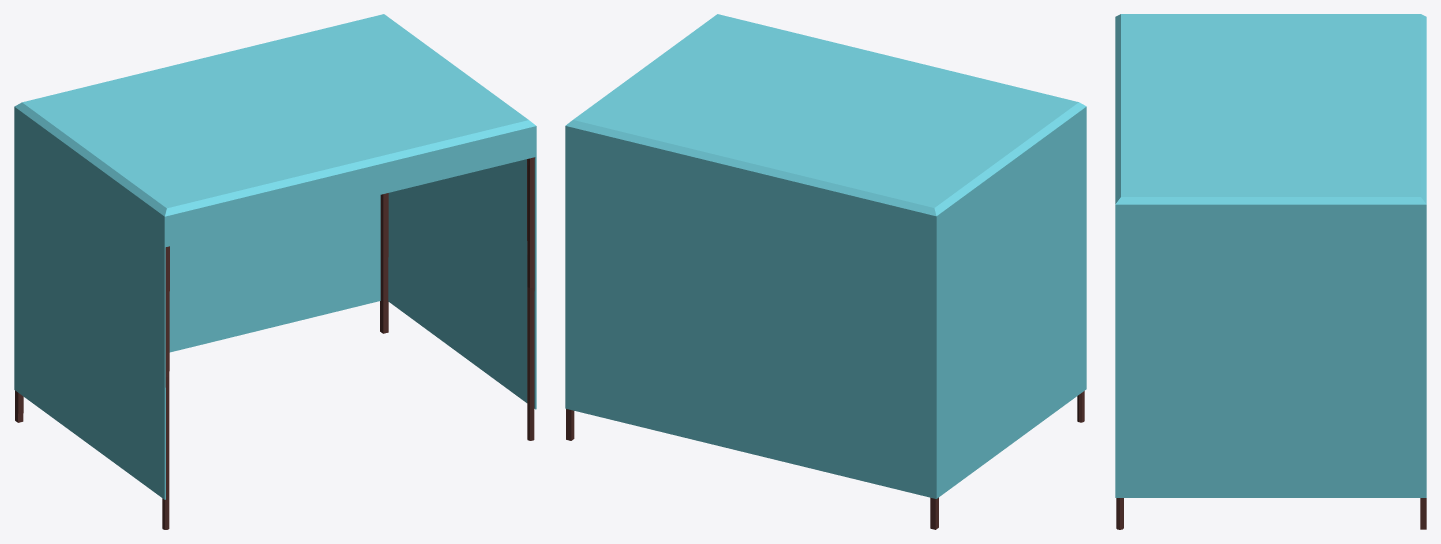
File: Carpa02.fbx
3 views of the same model, side by side, from view 1: azimuth 30°, elevation 25°; view 2: azimuth 150°, elevation 25°; view 3: azimuth 270°, elevation 25° (orthographic). The views are drawn at different scales.
Parts seen in each view (by area): view 1: Carpa2.001; view 2: Carpa2.001; view 3: Carpa2.001.
Part boxes in pixels (x1,y1,x2,y2): Carpa2.001: (14,14,536,529); Carpa2.001: (565,14,1086,529); Carpa2.001: (1115,14,1426,529).
Bounding box in the file's own units: 306 × 251 × 214.
